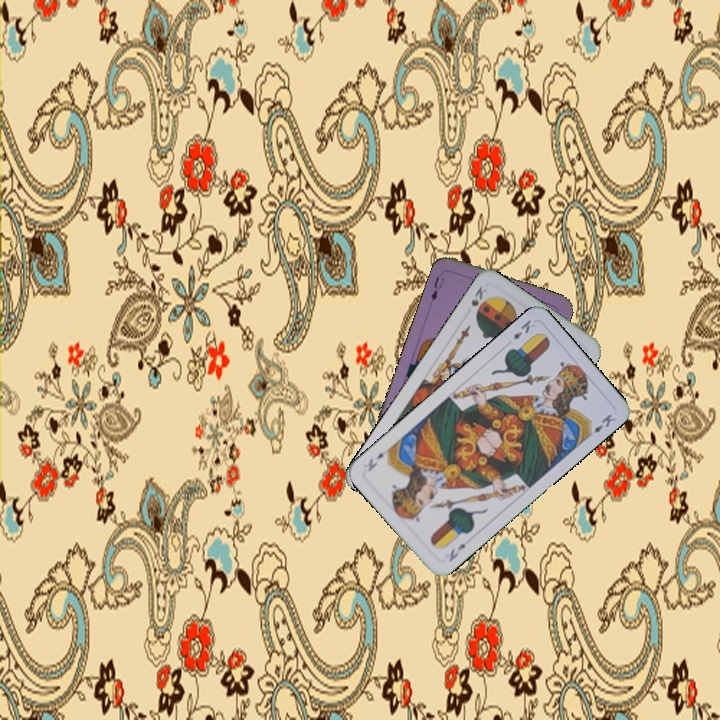EK: (509, 315, 538, 342), (445, 539, 469, 564)
EU: (427, 272, 447, 303)
SK: (467, 282, 490, 309)
